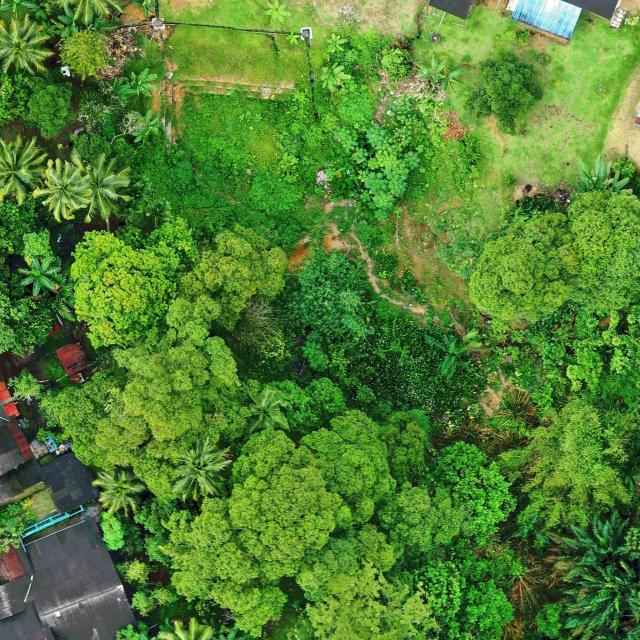Tree: (70, 218, 197, 348), (469, 194, 580, 326), (176, 224, 288, 330), (566, 188, 640, 312), (541, 499, 640, 582), (463, 52, 545, 136), (557, 567, 640, 640), (167, 433, 233, 502), (16, 64, 75, 141), (72, 151, 131, 223), (31, 160, 90, 223), (0, 12, 54, 78), (0, 132, 48, 205), (57, 25, 116, 81), (92, 463, 148, 520), (570, 154, 630, 193), (57, 2, 106, 38), (6, 365, 50, 405), (18, 256, 60, 297), (379, 44, 413, 83), (106, 76, 139, 108), (131, 110, 162, 144), (129, 67, 159, 98), (321, 62, 352, 92), (436, 64, 464, 96), (417, 54, 447, 81), (264, 0, 292, 23), (19, 0, 49, 21), (325, 33, 348, 53)
